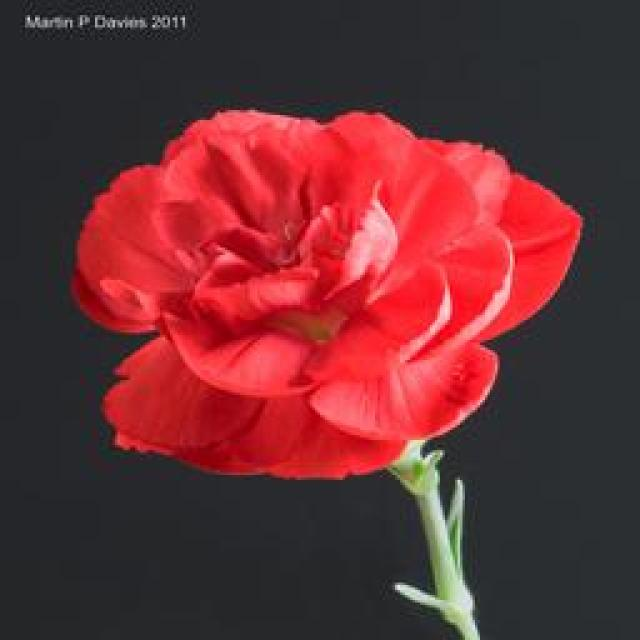carnation: (52, 96, 581, 495)
